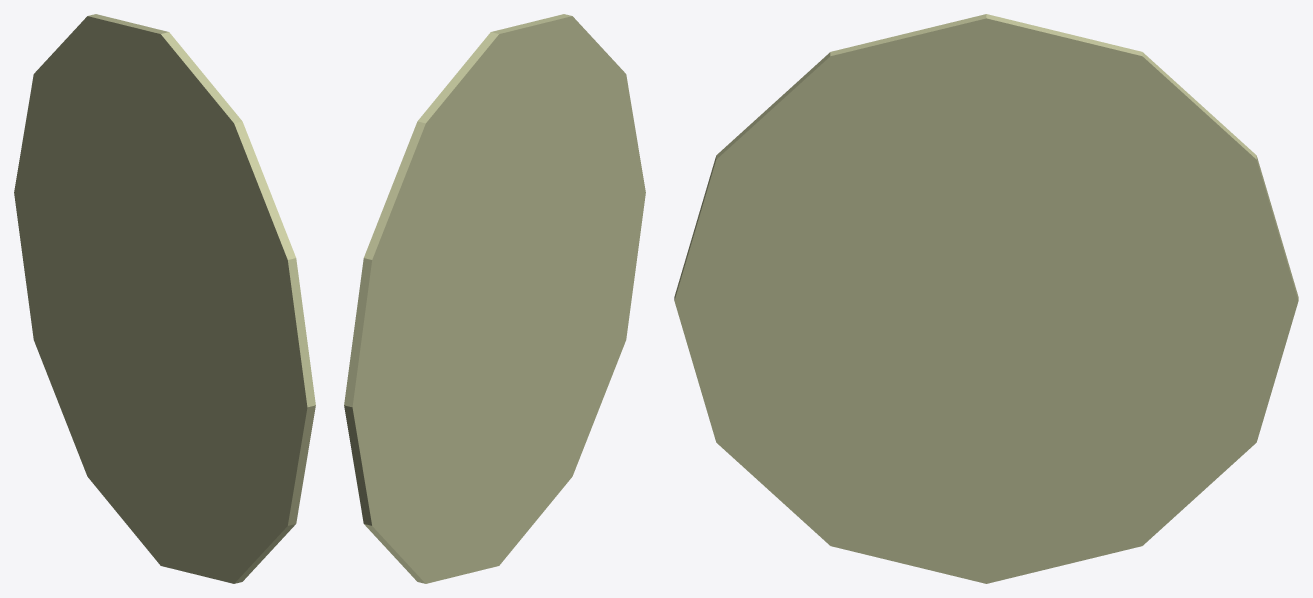
File: sun.glb
3 views of the same model, side by side, from view 1: azimuth 30°, elevation 25°; view 2: azimuth 150°, elevation 25°; view 3: azimuth 270°, elevation 25° (orthographic). The views are drawn at different scales.
Parts seen in each view (by area): view 1: Sun; view 2: Sun; view 3: Sun.
Part boxes in pixels (<box>): Sun: <box>14,14,315,583</box>; Sun: <box>344,14,645,583</box>; Sun: <box>674,14,1298,583</box>.
Size of the model in its own units: 0.1 by 6 by 6.
